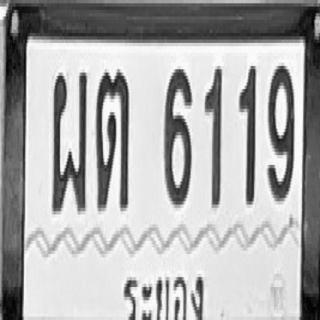A21: (96, 68, 130, 209)
A28: (52, 68, 87, 213)
N01: (238, 61, 256, 203), (204, 64, 222, 206)
N06: (164, 66, 192, 204)
N09: (267, 61, 294, 200)
P53: (118, 262, 207, 320)
